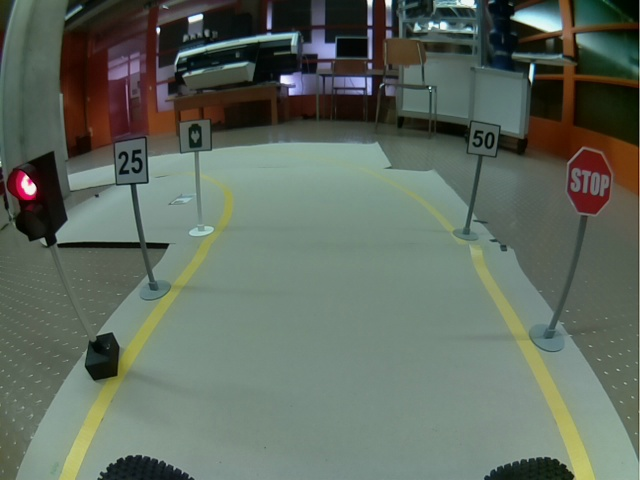battery: (178, 119, 213, 154)
speed25: (114, 136, 149, 186)
speed50: (466, 120, 501, 158)
stop: (565, 147, 614, 217)
trafficLightRed: (6, 150, 68, 241)
